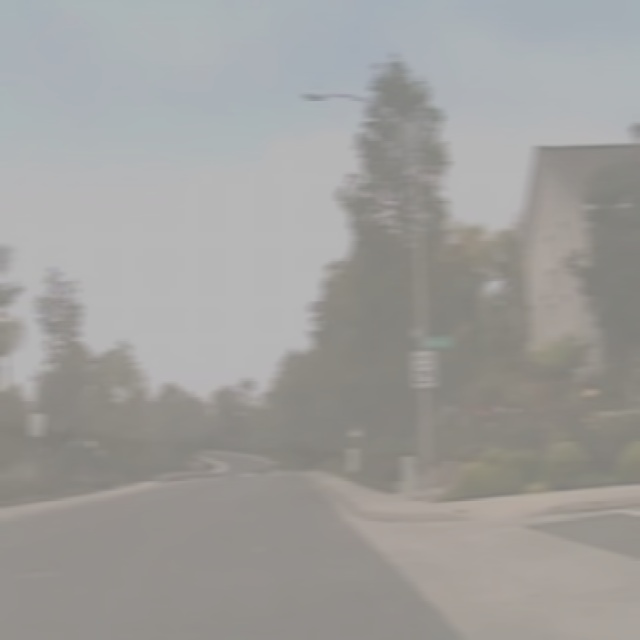speedLimit25: (411, 348, 436, 389)
